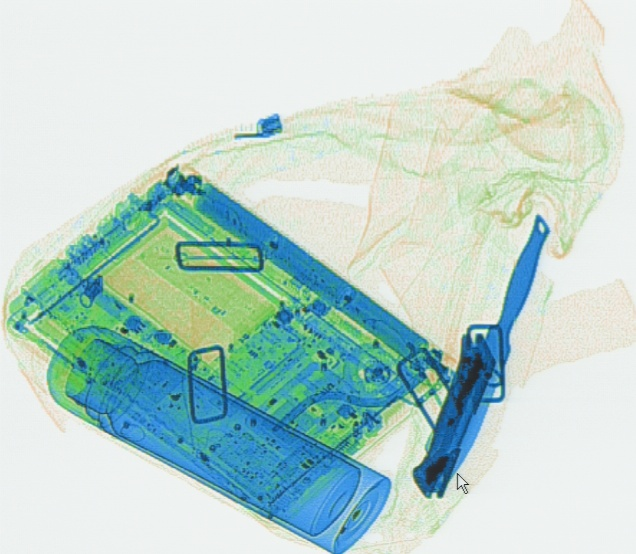knife: (423, 211, 551, 498), (407, 325, 498, 500)
